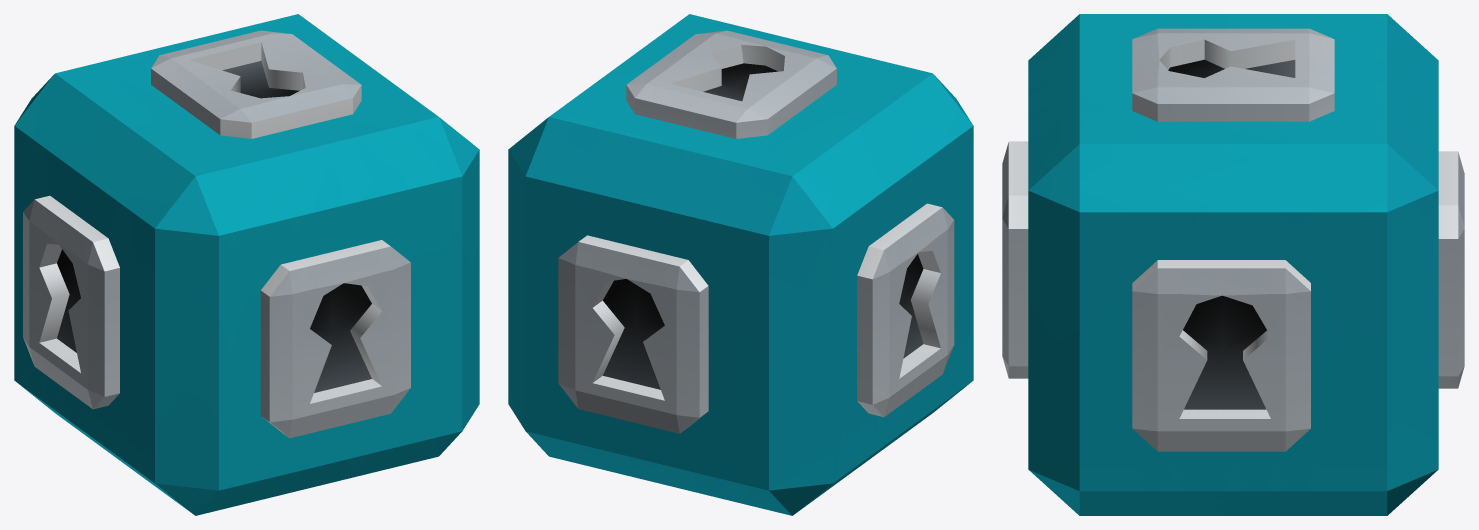
Rendered from lockBox.fbx.
The picture shows the model from 3 angles, left to right: view 1: azimuth 30°, elevation 25°; view 2: azimuth 150°, elevation 25°; view 3: azimuth 270°, elevation 25°; orthographic projection. The views are drawn at different scales.
Parts seen in each view (by area): view 1: polySurface1; view 2: polySurface1; view 3: polySurface1.
Part boxes in pixels (left/top/right/bottom): polySurface1: left=14, top=14, right=479, bottom=515; polySurface1: left=508, top=14, right=973, bottom=515; polySurface1: left=1002, top=14, right=1464, bottom=515.
Bounding box in the file's own units: 1.13 × 1.06 × 1.13.
